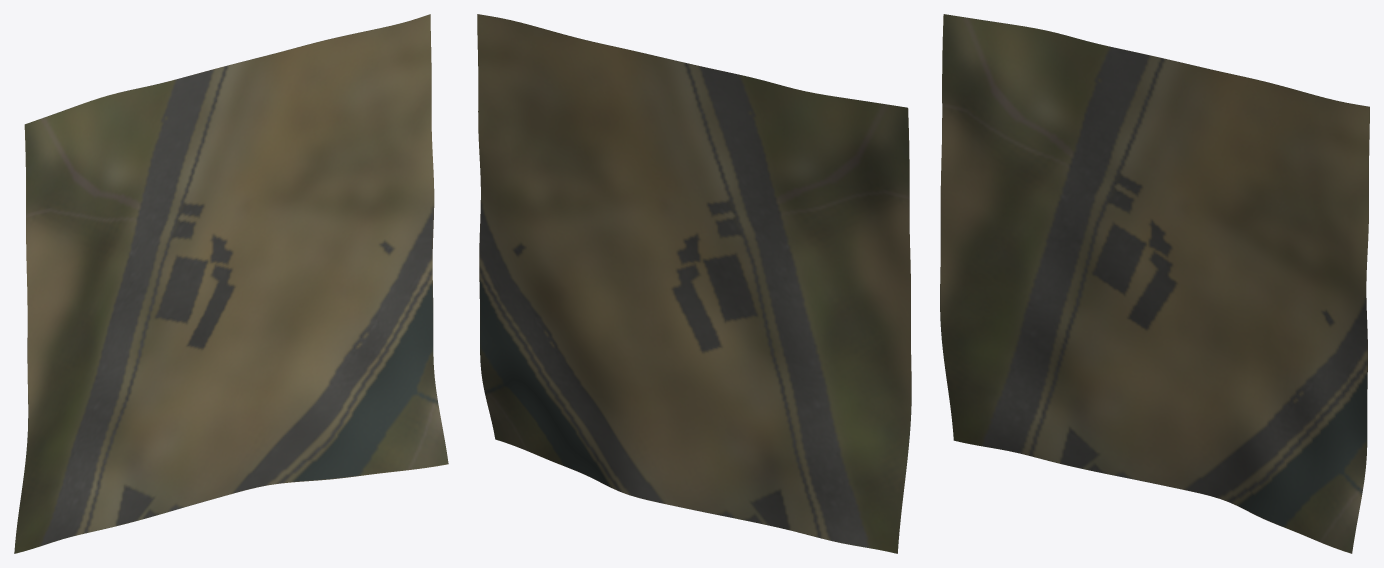
File: ground_mid_04_01.obj
The picture shows the model from 3 angles, left to right: view 1: azimuth 30°, elevation 25°; view 2: azimuth 150°, elevation 25°; view 3: azimuth 330°, elevation 25°; orthographic projection.
Parts seen in each view (by area): view 1: ground_mid_04_01; view 2: ground_mid_04_01; view 3: ground_mid_04_01.
Boxes of the visible parts, <box> form: ground_mid_04_01: <box>14,14,448,553</box>; ground_mid_04_01: <box>477,14,911,553</box>; ground_mid_04_01: <box>940,14,1369,553</box>.
Bounding box in the file's own units: 200 × 200 × 19.98.
Materials: 1 (1 with a texture image).
